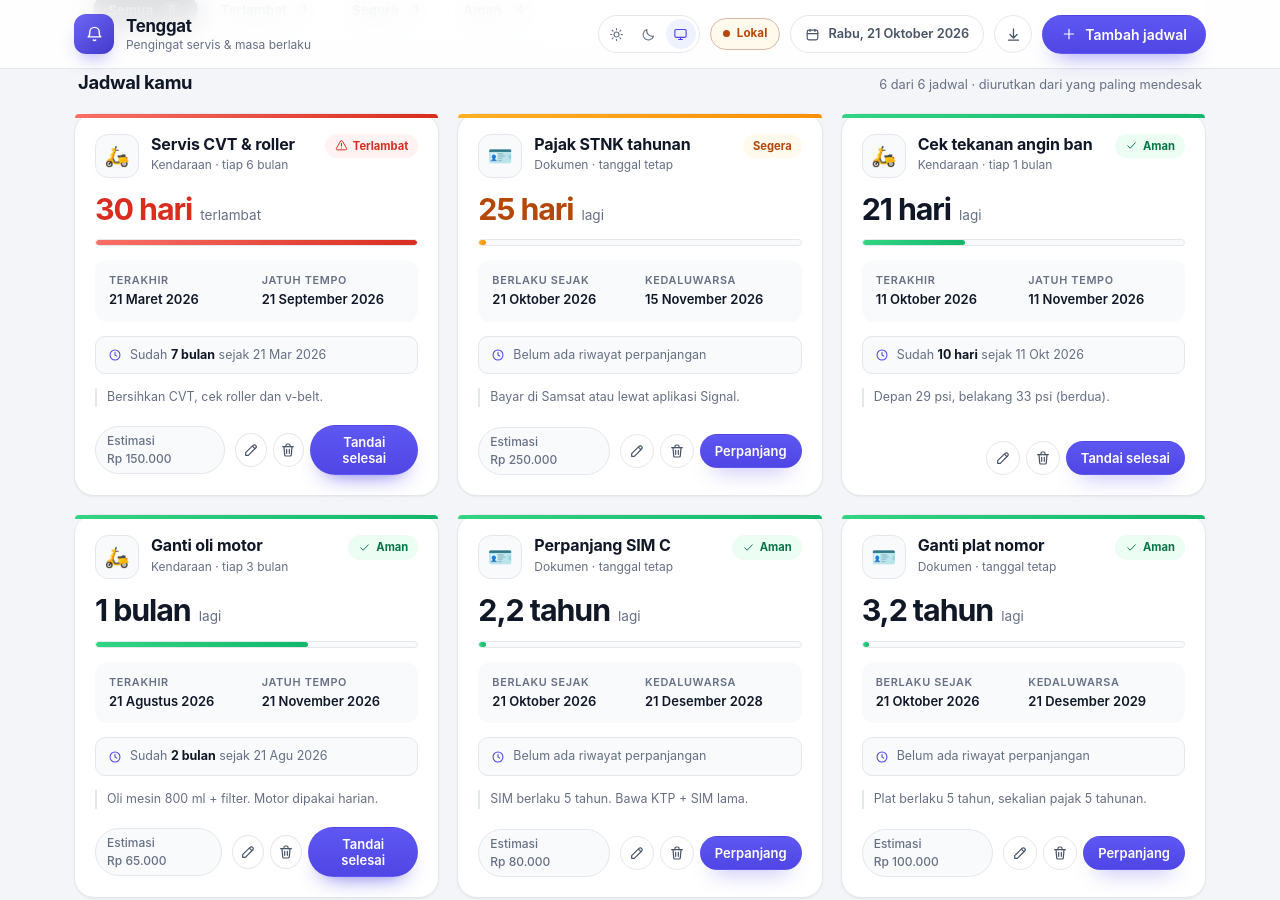
it: App › menghapus jadwal setelah konfirmasi
(page scrolled)
Click the button named "Hapus" next to "Rp 150.000". click: (288, 450)
box: [273,433,304,467]
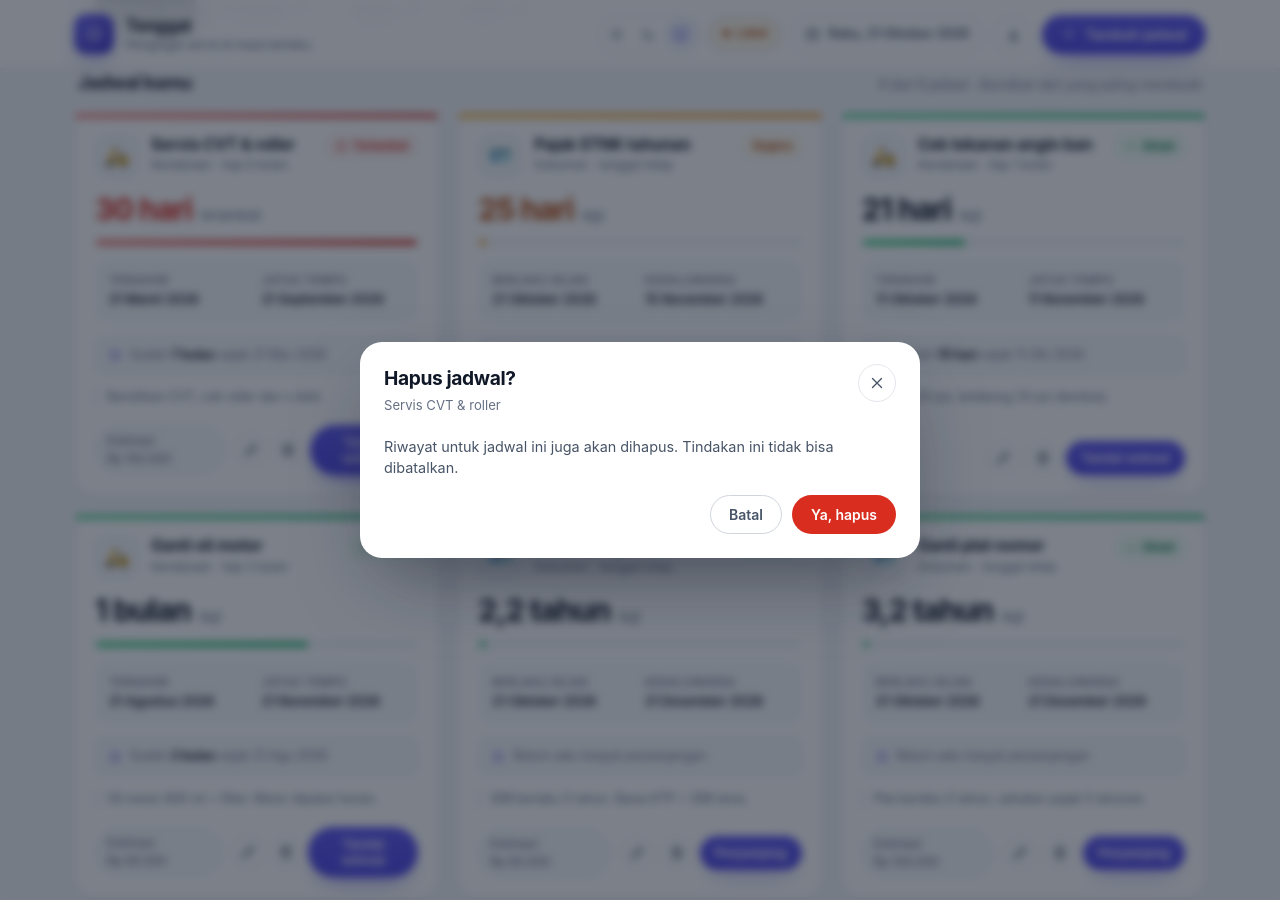
Now the text "tidak bisa dibatalkan" is shown, box [384,438,834,476]
Click the button "Ya, hapus". click: (844, 514)
box: [792,495,896,534]
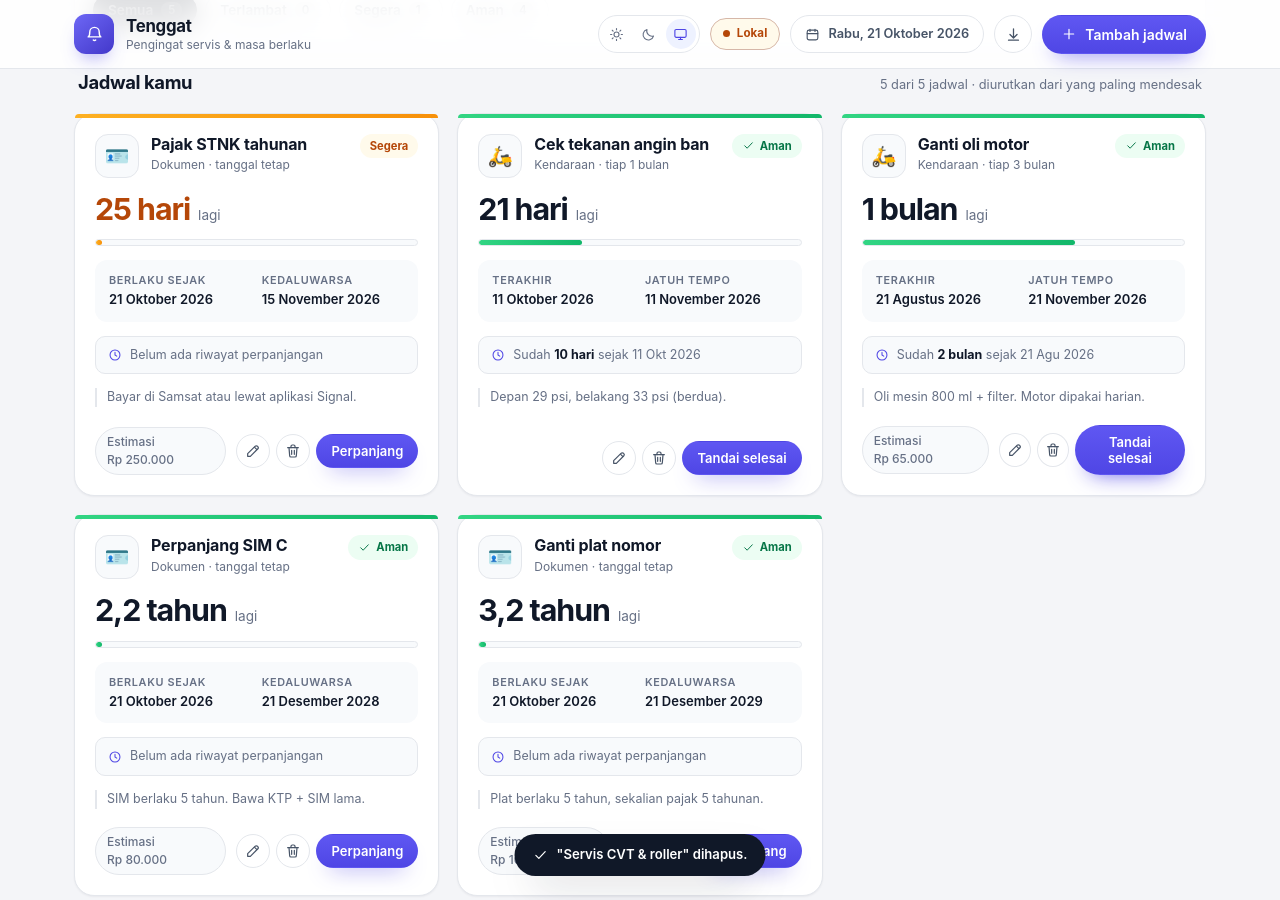
Now the dialog is gone
